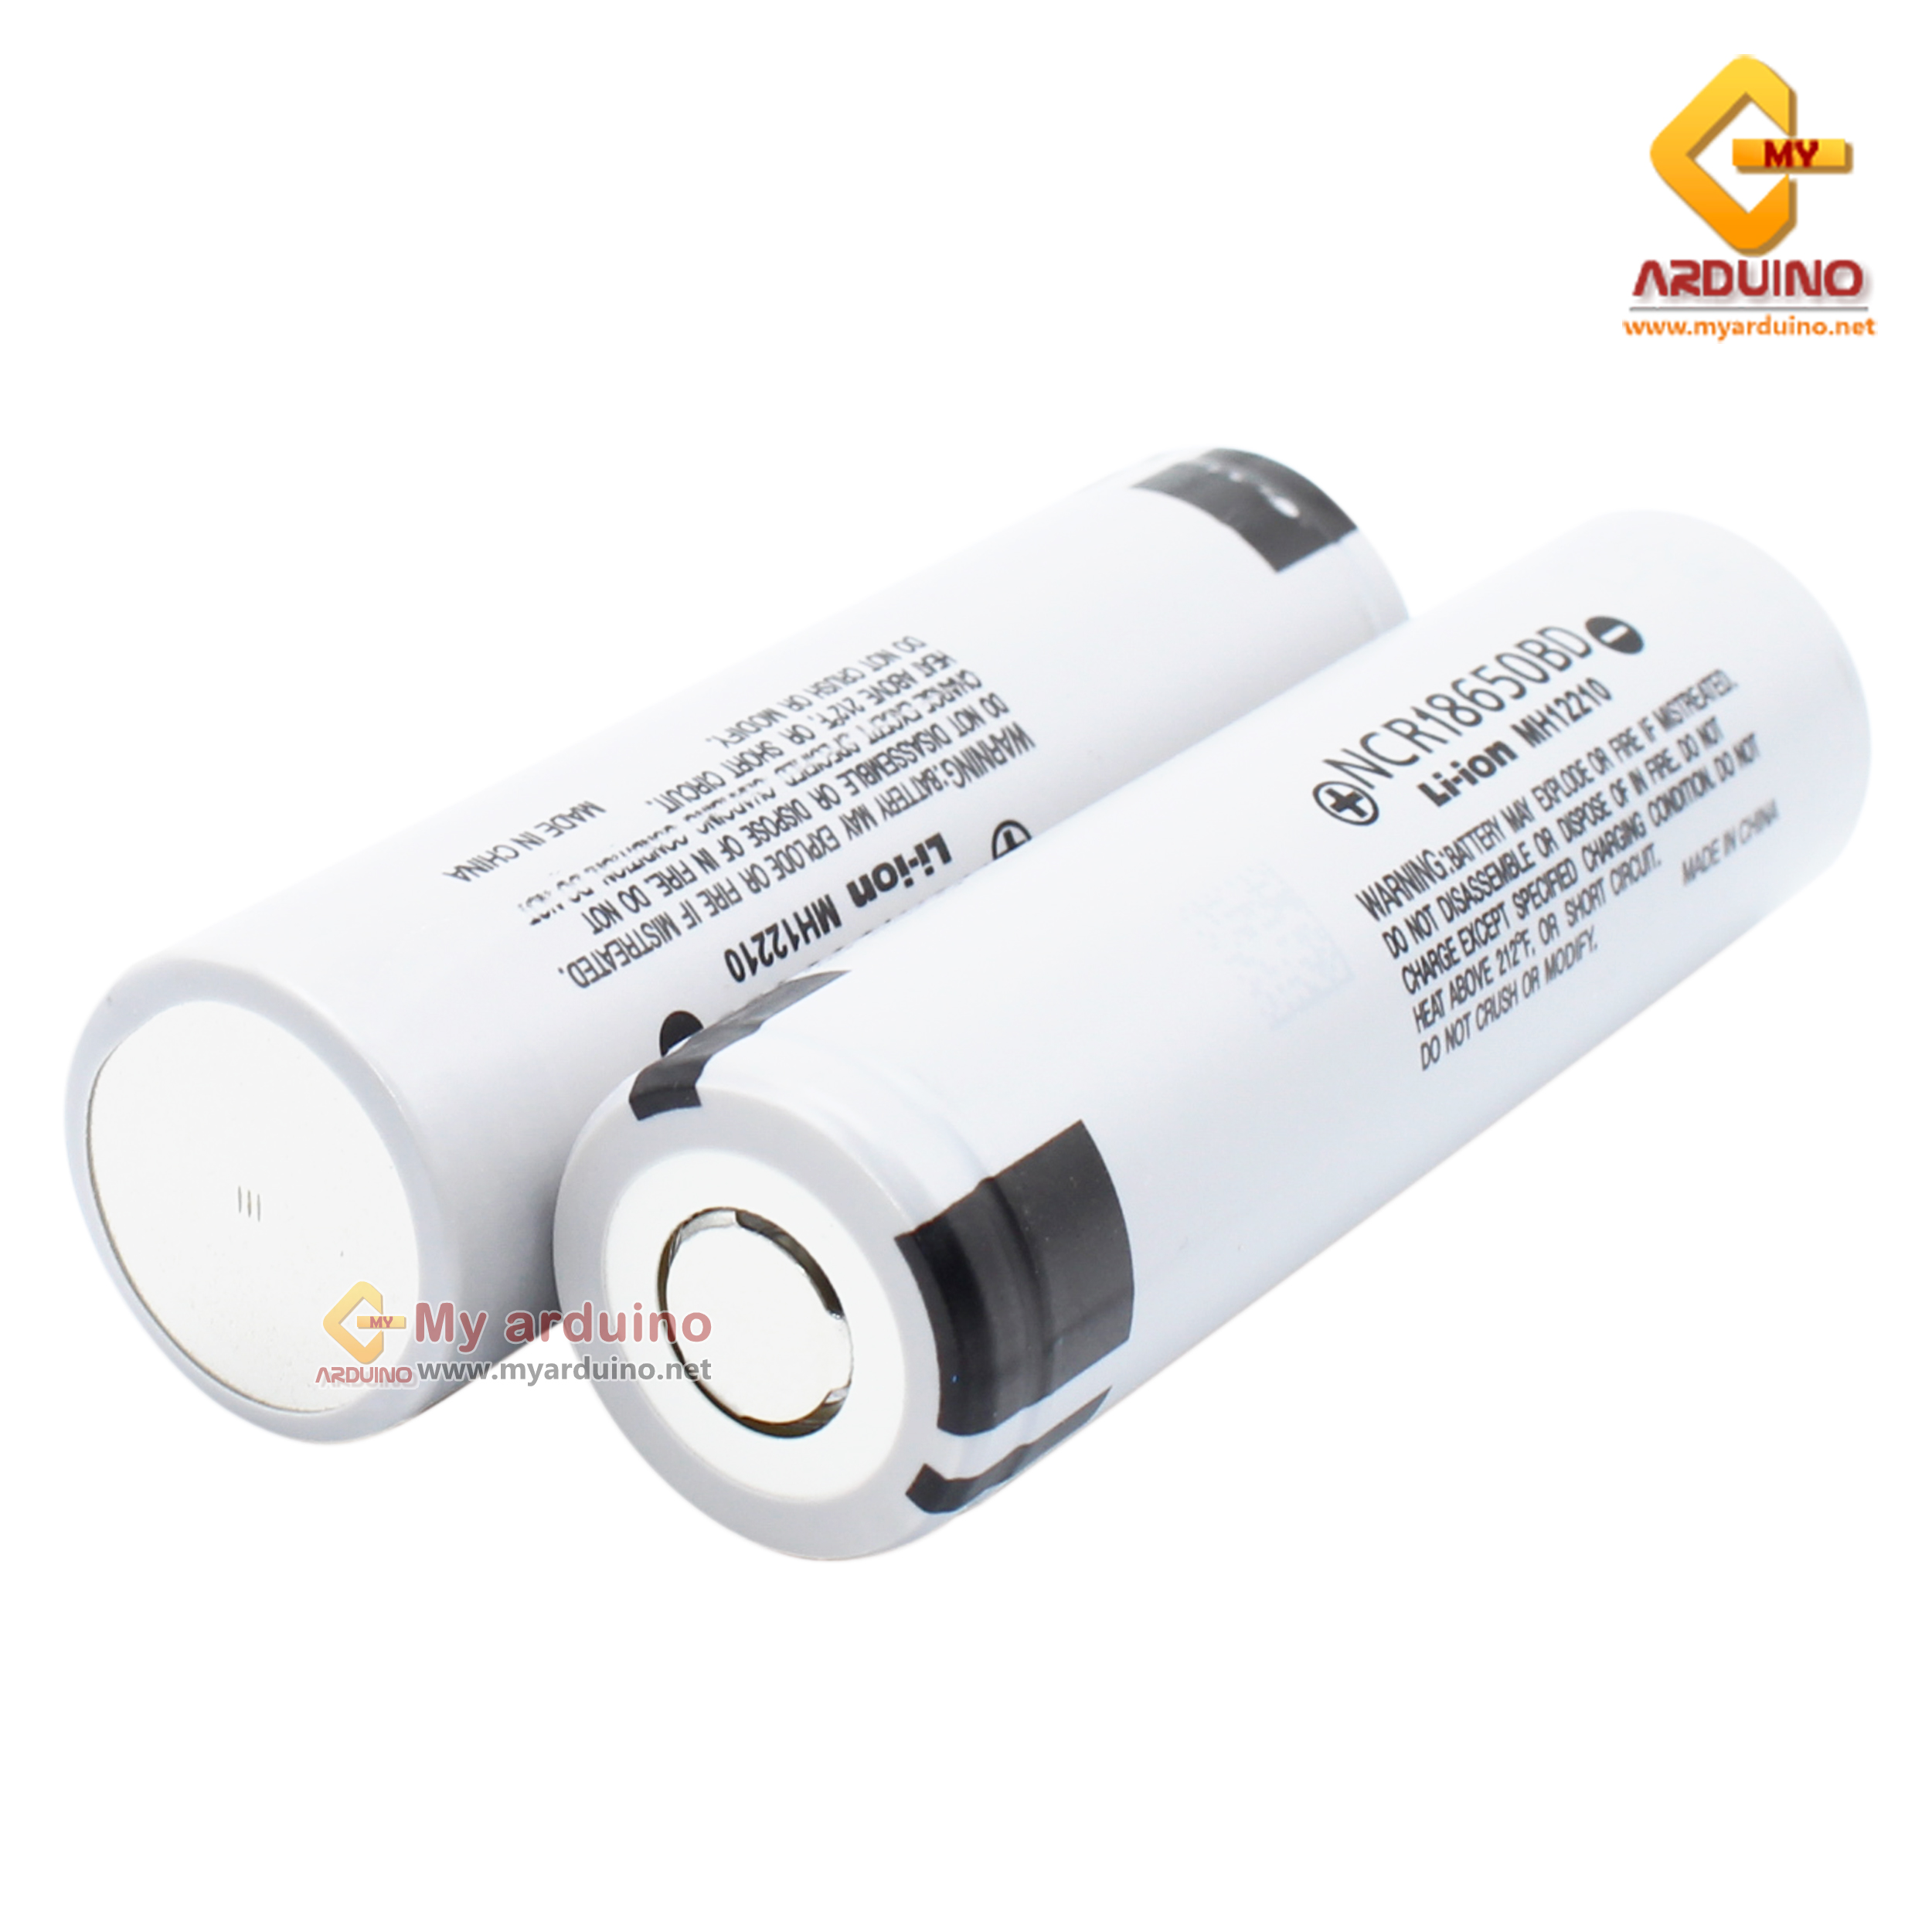Battery: (545, 504, 1879, 1569)
